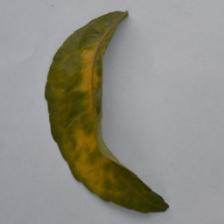greening: (51, 43, 142, 206)
